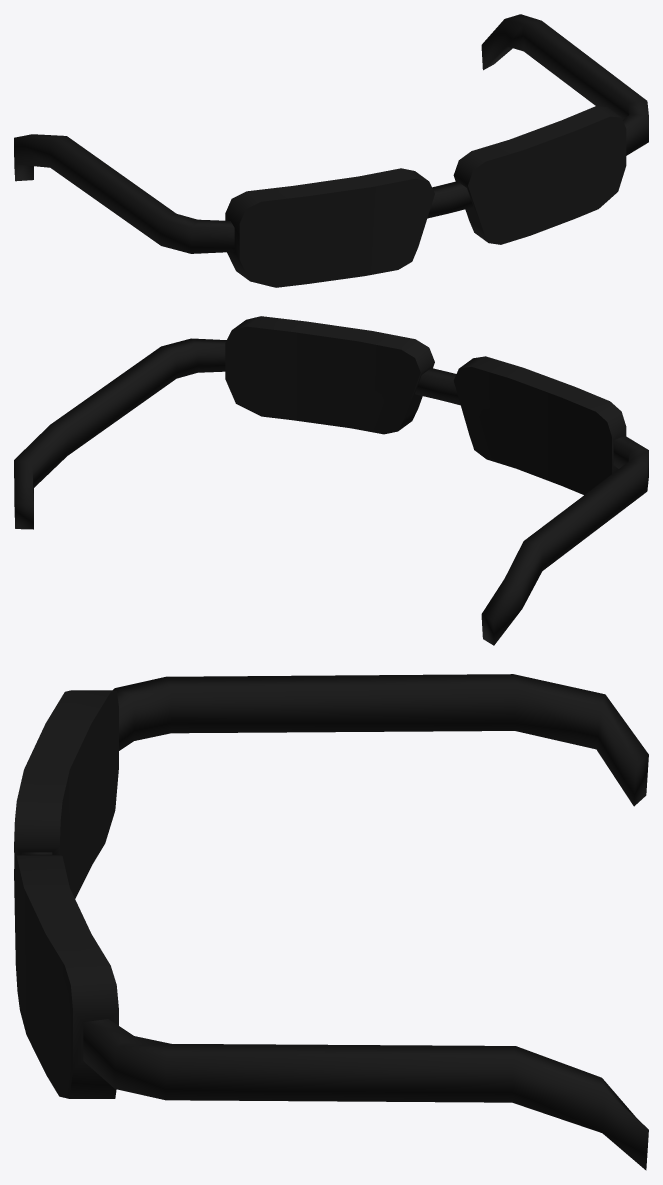
The model's file is Glasses_Dark.fbx.
3 views of the same model, one above another, from view 1: azimuth 30°, elevation 25°; view 2: azimuth 150°, elevation 25°; view 3: azimuth 270°, elevation 25° (orthographic). The views are drawn at different scales.
Parts seen in each view (by area): view 1: Glasses_Dark; view 2: Glasses_Dark; view 3: Glasses_Dark.
Boxes of the visible parts, box(x1,y1,x2,y2) form: Glasses_Dark: box(14, 14, 648, 287); Glasses_Dark: box(14, 316, 648, 645); Glasses_Dark: box(14, 674, 648, 1170).
Size of the model in its own units: 89.59 by 16.2 by 60.37.
